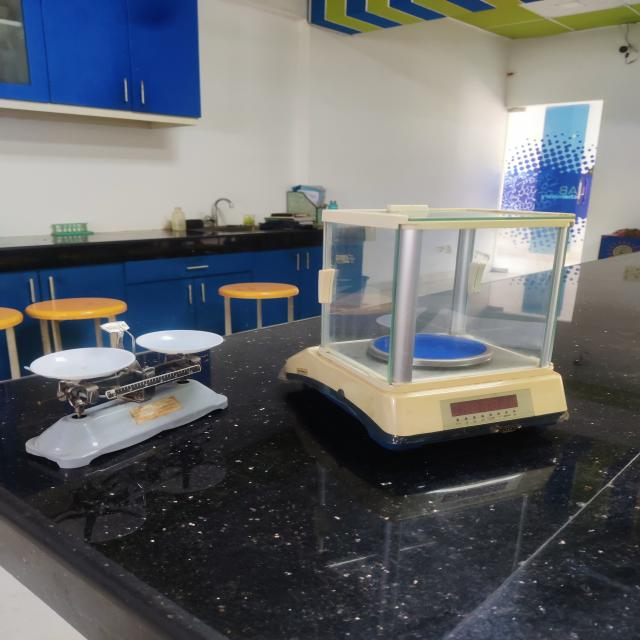Mechanical_Balance_Scale: (10, 323, 236, 485)
Precision_Weight_Scale: (264, 188, 592, 474)
